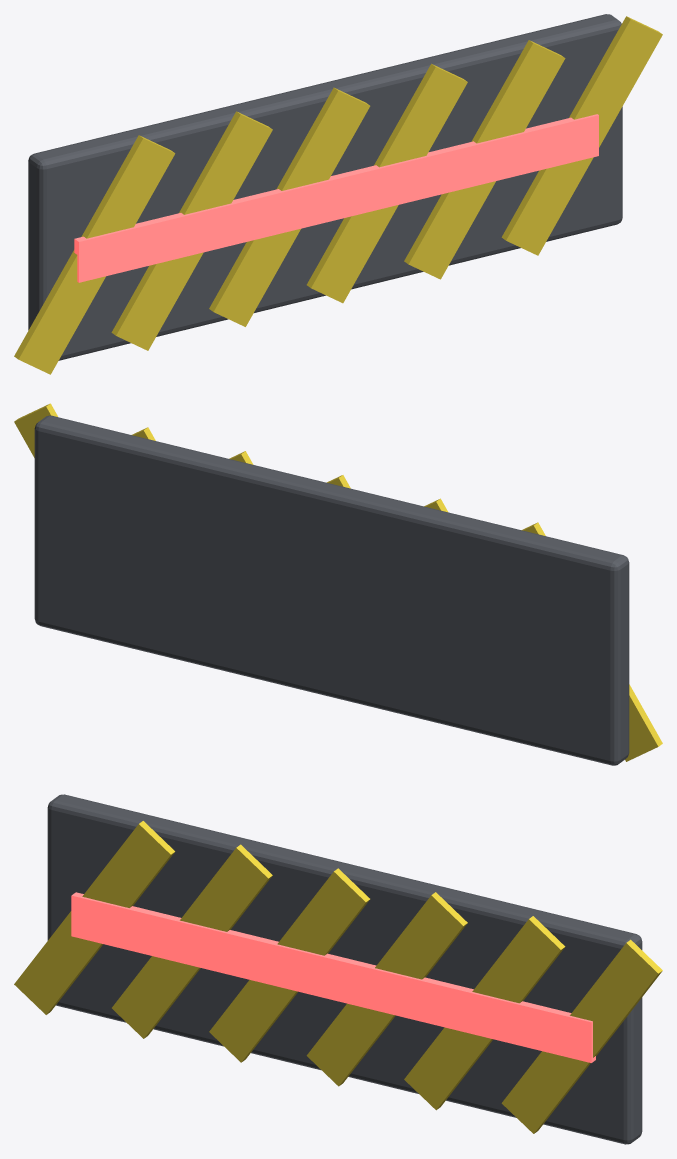
The model's file is signage_restricted_zone.glb.
3 renders of one model, top to bottom at view 1: azimuth 30°, elevation 25°; view 2: azimuth 150°, elevation 25°; view 3: azimuth 330°, elevation 25°, orthographic.
Visible parts, largest first — view 1: GD_signage_restricted_zone__m0, GD_signage_restricted_zone__m1, GD_signage_restricted_zone__m2; view 2: GD_signage_restricted_zone__m0, GD_signage_restricted_zone__m1; view 3: GD_signage_restricted_zone__m0, GD_signage_restricted_zone__m1, GD_signage_restricted_zone__m2.
Boxes of the visible parts, bbox=[...] form: GD_signage_restricted_zone__m0: bbox=[28, 14, 622, 360]; GD_signage_restricted_zone__m1: bbox=[14, 16, 662, 374]; GD_signage_restricted_zone__m2: bbox=[74, 114, 598, 282]; GD_signage_restricted_zone__m0: bbox=[34, 415, 629, 765]; GD_signage_restricted_zone__m1: bbox=[14, 403, 662, 761]; GD_signage_restricted_zone__m0: bbox=[47, 794, 642, 1144]; GD_signage_restricted_zone__m1: bbox=[14, 821, 662, 1133]; GD_signage_restricted_zone__m2: bbox=[71, 892, 595, 1062].
Bounding box in the file's own units: 0.9915 × 0.3145 × 0.056.
